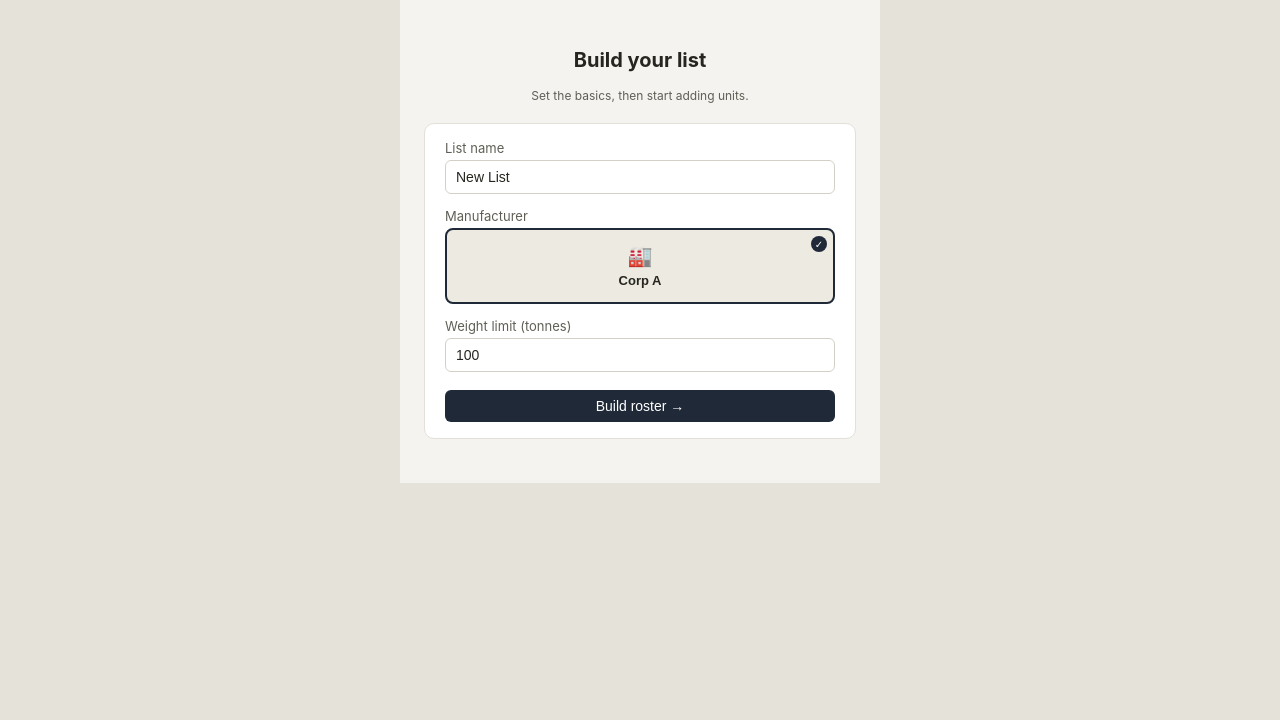
Test: ListBuilderPage › numbers duplicate units added to the roster, leaving a single unit unnumbered
Click the button "Build roster →" at (640, 406), box [445,390,835,422]
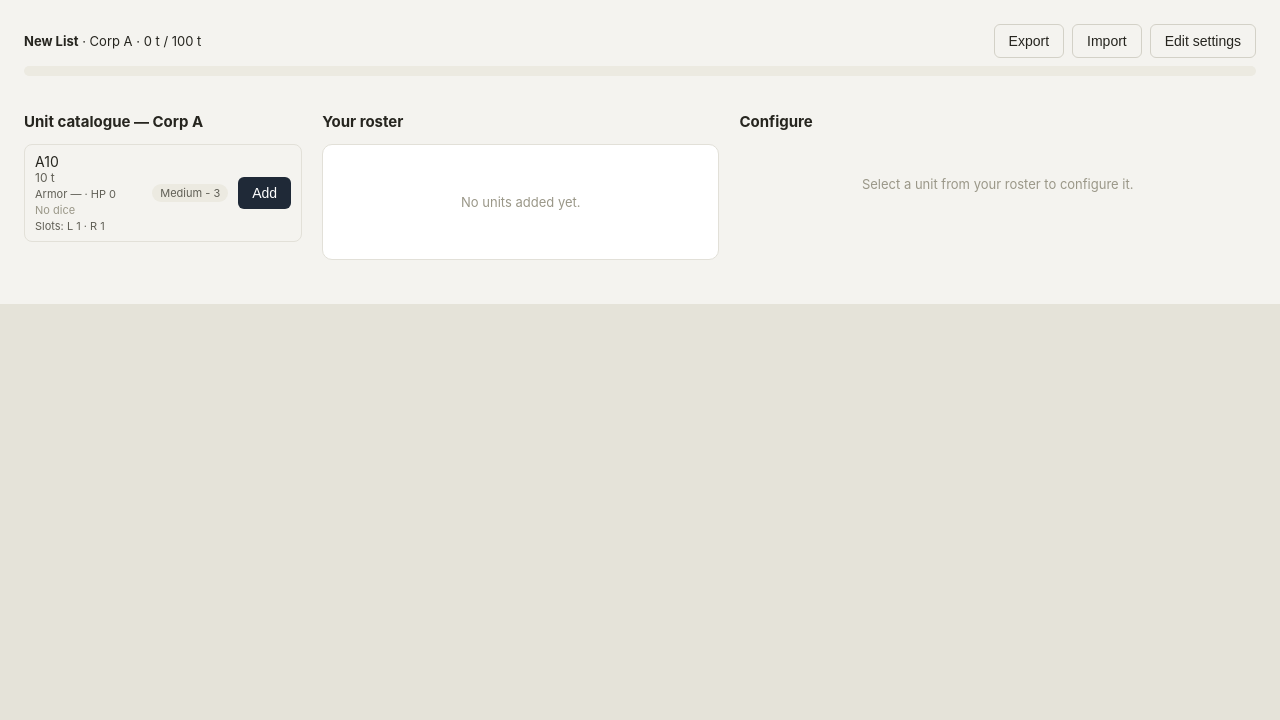
Click the button "Add" at (265, 193), box [238,177,291,209]
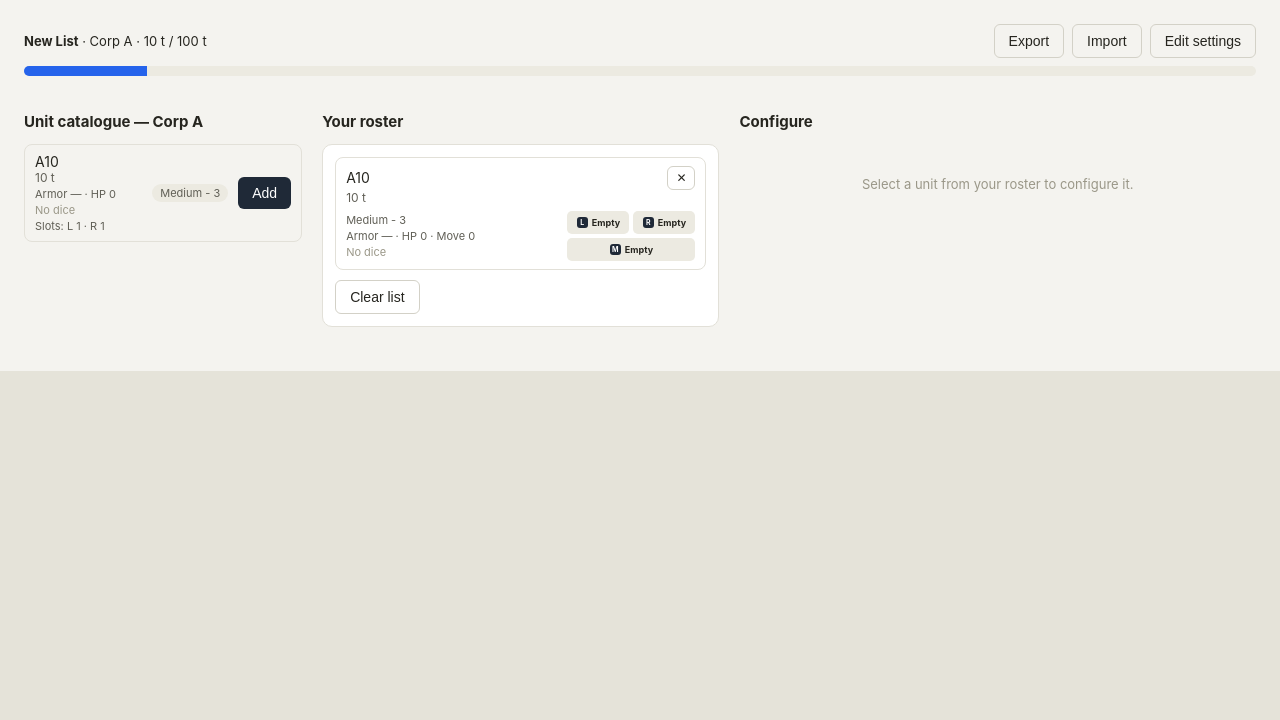
Expected: the text "A10 (1)" is not shown
Expected: the text "A10" is shown 2 times, [35,153,59,170]; [346,169,370,186]
Click the button "Add" at (265, 193), box [238,177,291,209]
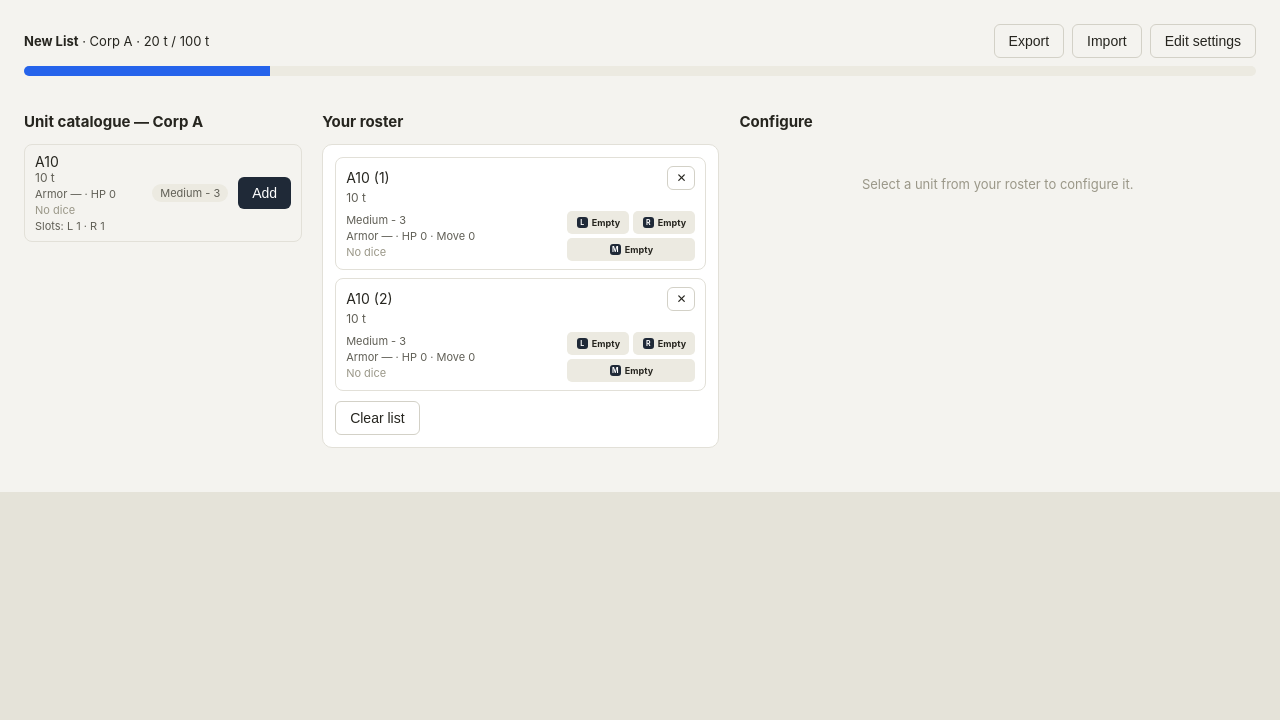
Expected: the text "A10" is shown once, [35,153,59,170]
Expected: the text "A10 (1)" is shown, [346,169,390,186]
Expected: the text "A10 (2)" is shown, [346,290,392,307]
